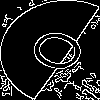O: (25, 25, 100, 82)
